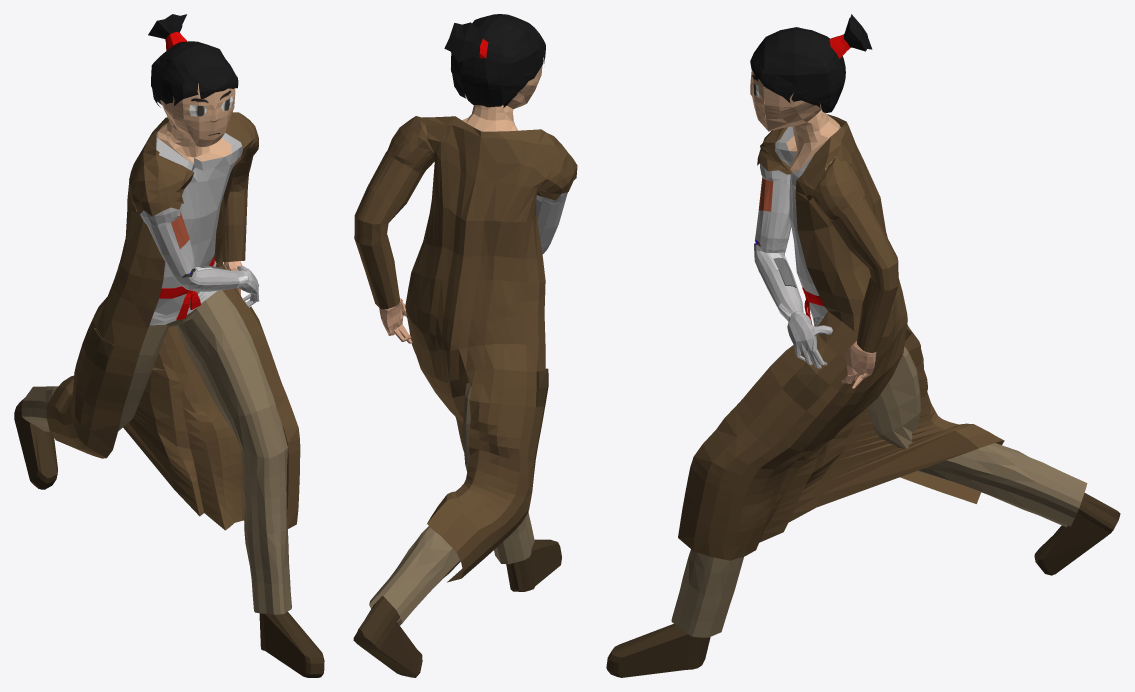
File: One_RF_000013.obj
The picture shows the model from 3 angles, left to right: view 1: azimuth 30°, elevation 25°; view 2: azimuth 150°, elevation 25°; view 3: azimuth 270°, elevation 25°; orthographic projection. The views are drawn at different scales.
Visible parts, largest first — view 1: Hair_Cube.004; view 2: Hair_Cube.004; view 3: Hair_Cube.004.
Boxes of the visible parts, box(x1,y1,x2,y2) form: Hair_Cube.004: box(14, 14, 324, 677); Hair_Cube.004: box(353, 14, 577, 677); Hair_Cube.004: box(606, 14, 1120, 677).
Bounding box in the file's own units: 1.11 × 3.77 × 2.75.
